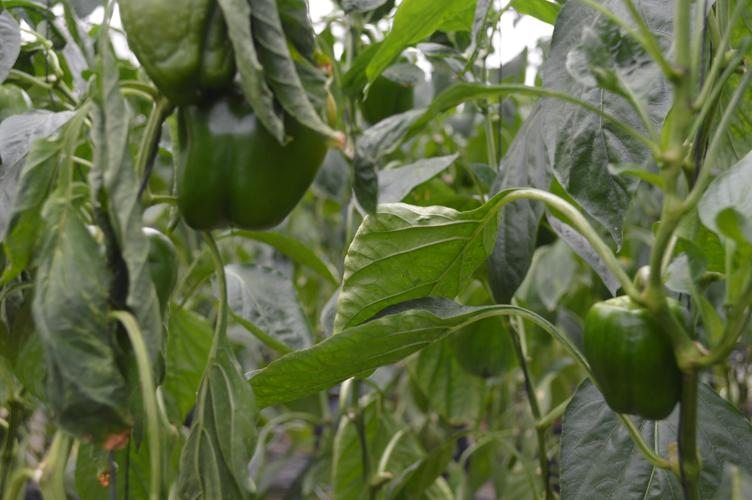BellPepper: (173, 85, 327, 231), (581, 294, 688, 420), (113, 1, 228, 95)
